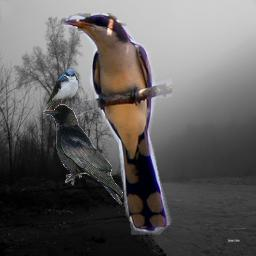Crow: (42, 104, 123, 205)
Cuckoo: (61, 13, 172, 235)
Swallow: (45, 68, 79, 111)
